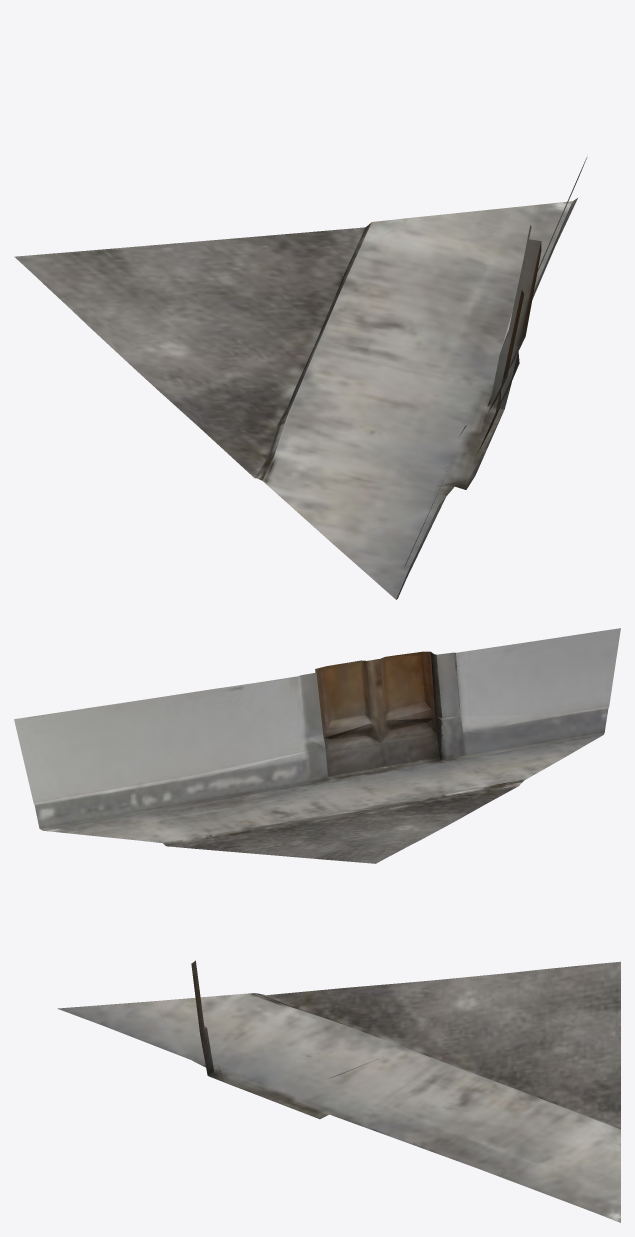
3 views of the same model, one above another, from view 1: azimuth 30°, elevation 25°; view 2: azimuth 150°, elevation 25°; view 3: azimuth 270°, elevation 25° (orthographic). The views are drawn at different scales.
Size of the model in its own units: 4.55 by 1.26 by 5.34.
1 material, 1 textured.
